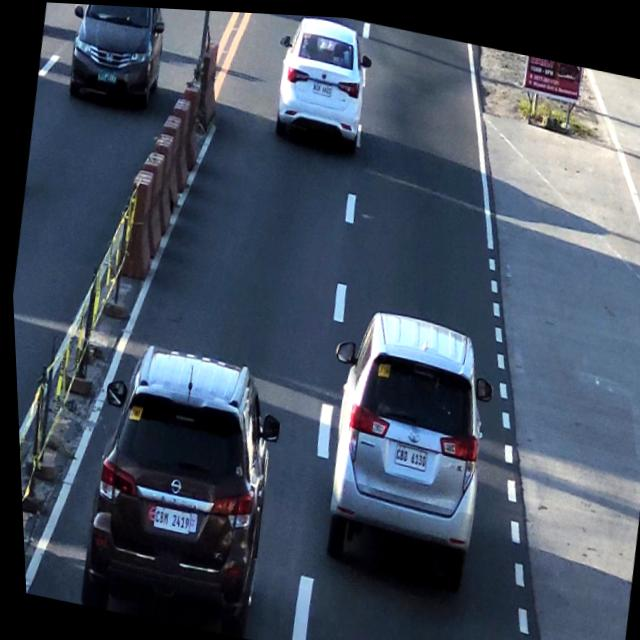Car: (64, 336, 283, 630), (310, 302, 490, 575), (268, 11, 378, 154)
License-Plate: (146, 502, 190, 537), (387, 435, 430, 470), (310, 78, 334, 97)
